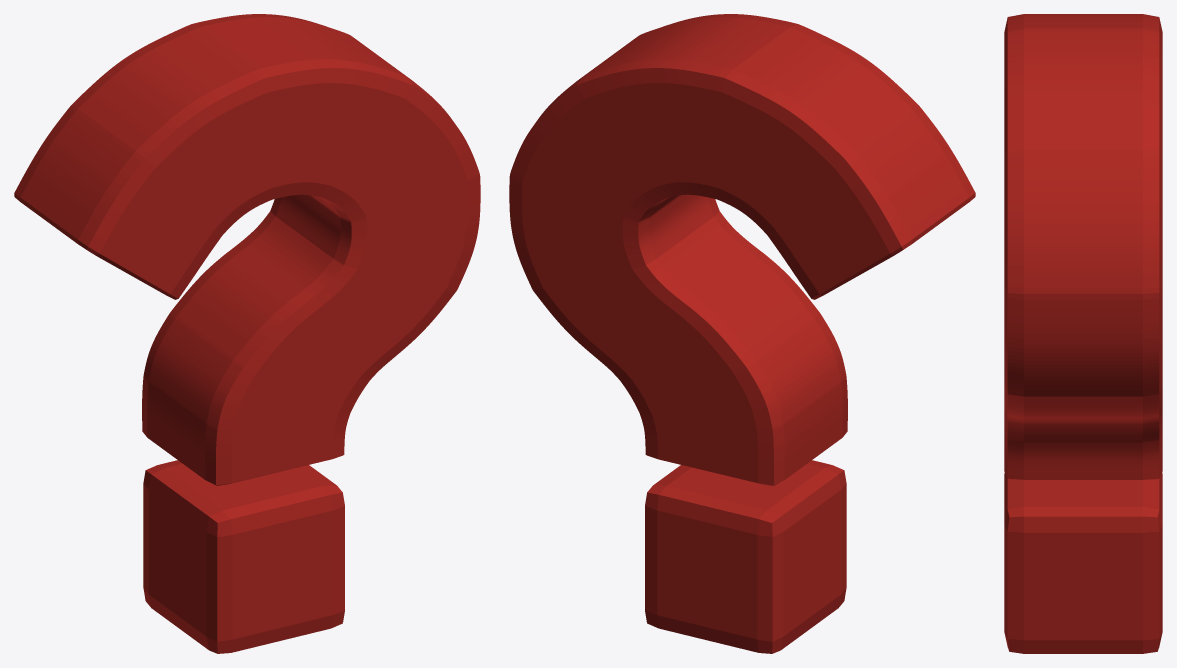
Rendered from znaki_.fbx.
3 views of the same model, side by side, from view 1: azimuth 30°, elevation 25°; view 2: azimuth 150°, elevation 25°; view 3: azimuth 270°, elevation 25° (orthographic). The views are drawn at different scales.
Visible parts, largest first — view 1: Cube; view 2: Cube; view 3: Cube.
Boxes of the visible parts, x1,y1,x2,y2 form: Cube: (14, 14, 480, 653); Cube: (509, 14, 975, 653); Cube: (1004, 14, 1162, 653).
Size of the model in its own units: 361 by 497 by 121.
